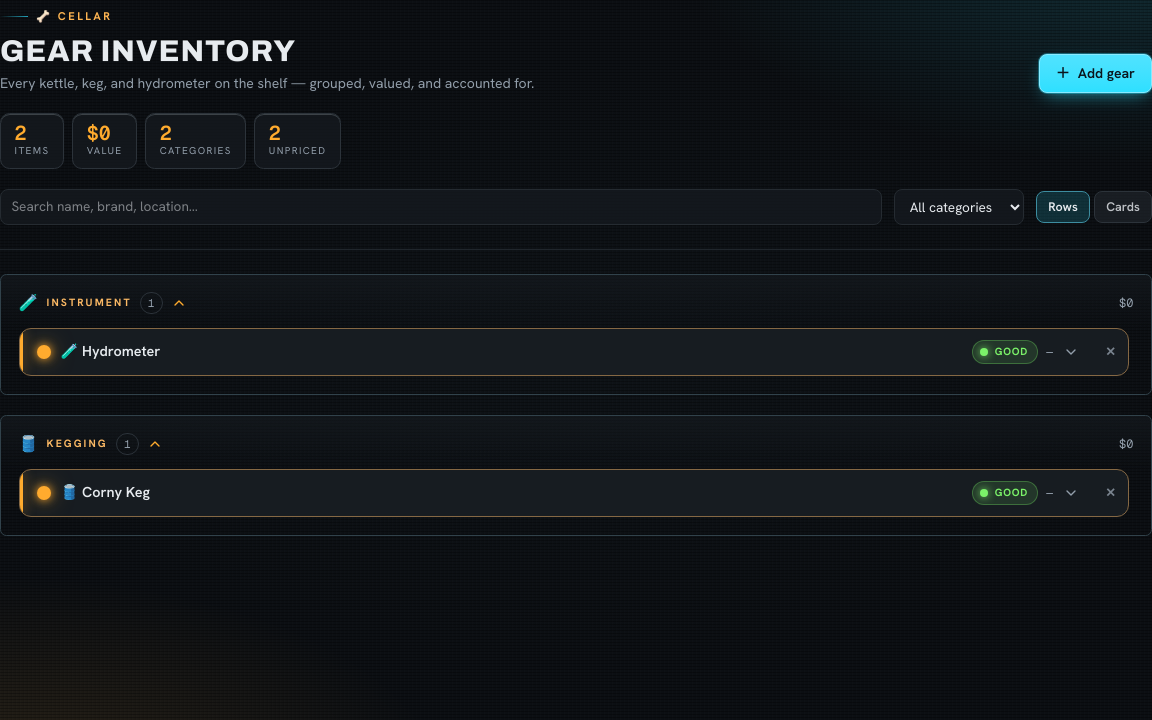
GearView › narrows results with the category filter
Expected: the text "Corny Keg" is shown, [82,483,150,501]
Select "🧪 Instrument" in the dropdown named "Filter by category" at (959, 207), box [894,189,1024,225]
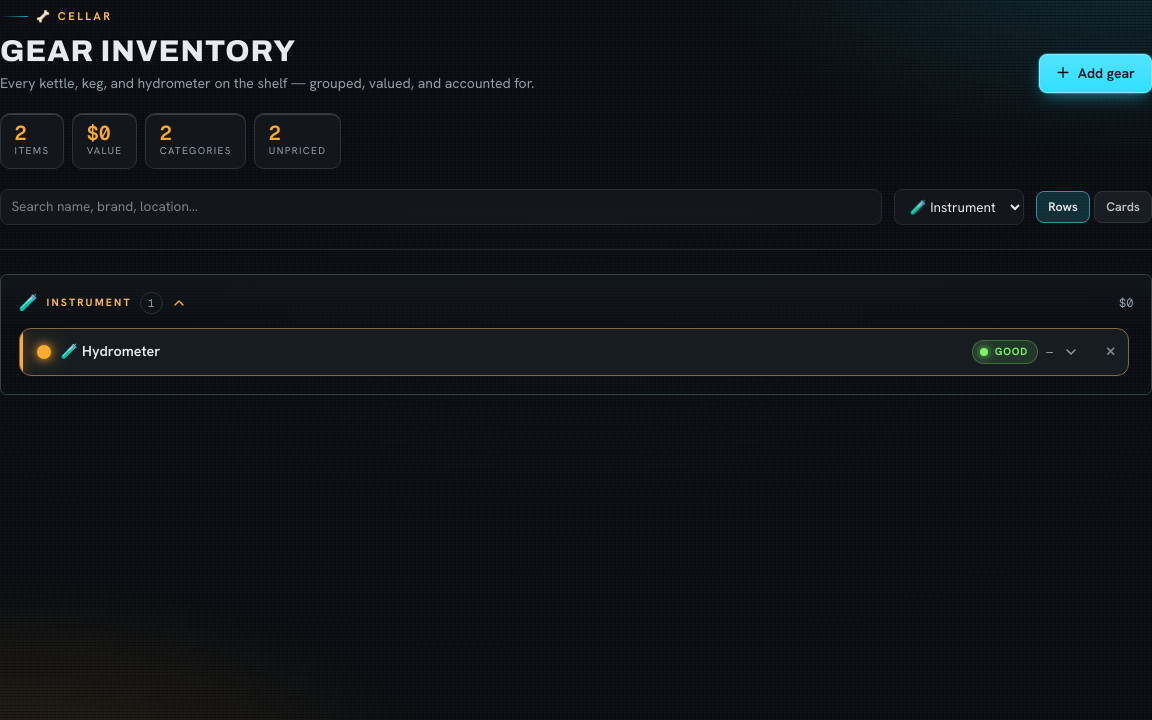
Expected: the text "Hydrometer" is shown, [82,342,160,360]
Expected: the button "Corny Keg" is gone
